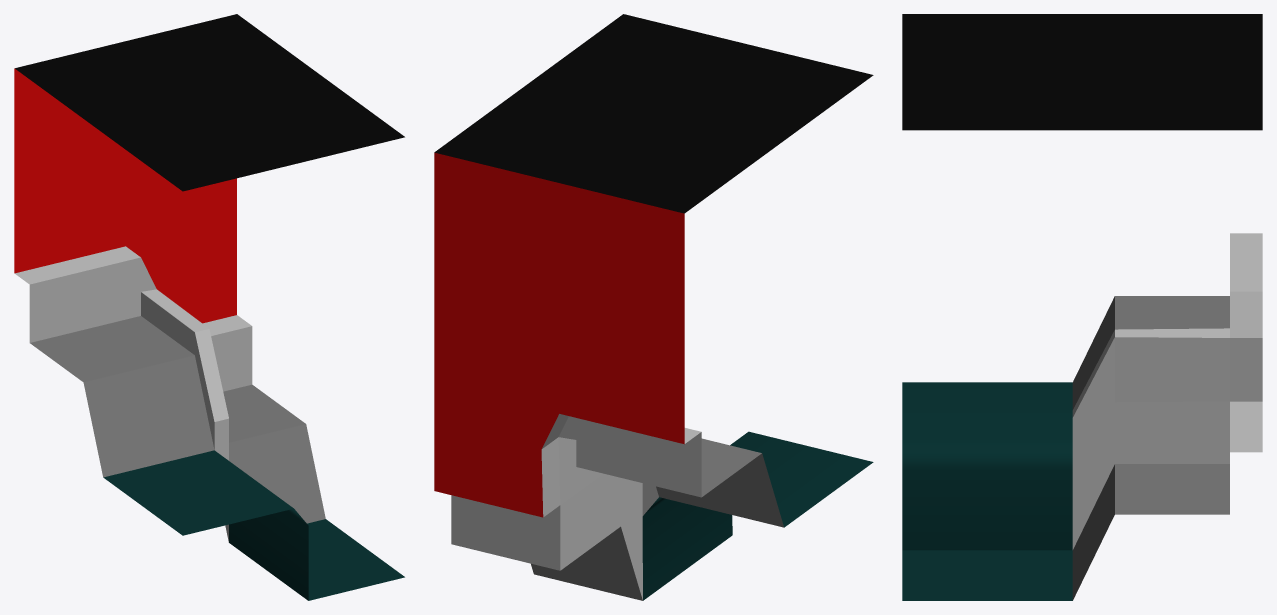
Rendered from recta_cascada.fbx.
The picture shows the model from 3 angles, left to right: view 1: azimuth 30°, elevation 25°; view 2: azimuth 150°, elevation 25°; view 3: azimuth 270°, elevation 25°; orthographic projection. The views are drawn at different scales.
Parts seen in each view (by area): view 1: Pieza_Recta_Cascada; view 2: Pieza_Recta_Cascada; view 3: Pieza_Recta_Cascada.
Part boxes in pixels (box(x1,y1,x2,y2)): Pieza_Recta_Cascada: box(14, 14, 404, 600); Pieza_Recta_Cascada: box(434, 14, 873, 600); Pieza_Recta_Cascada: box(902, 14, 1262, 600).
Bounding box in the file's own units: 20 × 37.77 × 26.19.
